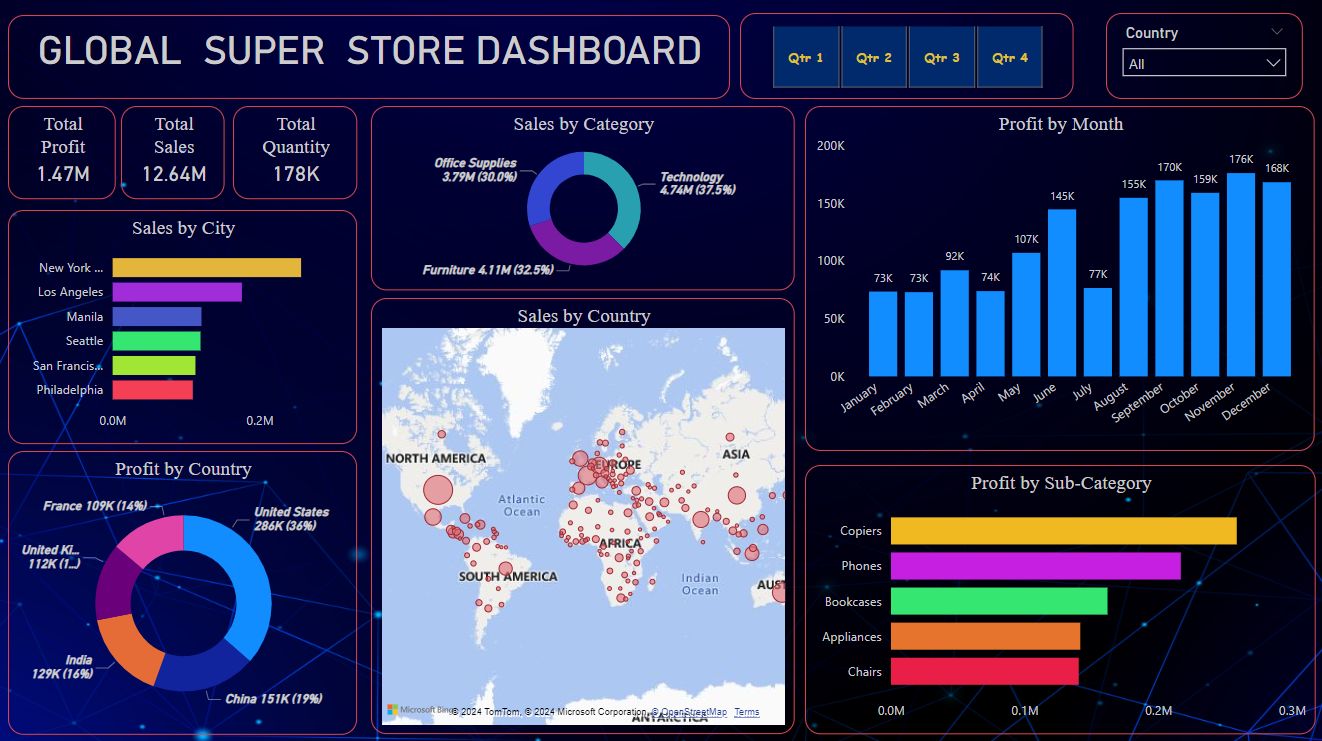

The page's visual inventory and layout, read from the dashboard file:
{"tool":"powerbi","page":{"name":"Page 1","canvas":[1280,720],"ordinal":0},"visuals":[{"type":"slicer","fields":{"Values":["Orders.Order Date.Variation.Date Hierarchy.Quarter"]},"box":[716.3,13.5,322.4,83],"z":0},{"type":"columnChart","title":"Profit by Month","fields":{"Category":["Orders.Order Date.Variation.Date Hierarchy.Month"],"Y":["Sum(Orders.Profit)"]},"box":[779,103.3,492.3,333],"z":1000},{"type":"barChart","title":"Profit by Sub-Category","fields":{"Category":["Orders.Sub-Category"],"Y":["Sum(Orders.Profit)"]},"box":[779,449.8,493.3,259.7],"z":2000},{"type":"donutChart","title":"Sales by Category","fields":{"Category":["Orders.Category"],"Y":["Sum(Orders.Sales)"]},"box":[360,103,409,178],"z":3000},{"type":"slicer","fields":{"Values":["Orders.Country"]},"box":[1069.6,13.5,190.2,83],"z":4000},{"type":"card","title":"Total Profit","fields":{"Values":["Sum(Orders.Profit)"]},"box":[9.7,103.3,104.3,89.8],"z":5000},{"type":"card","title":"Total Sales","fields":{"Values":["Sum(Orders.Sales)"]},"box":[118.7,103.3,100.4,89.8],"z":6000},{"type":"card","title":"Total Quantity","fields":{"Values":["Sum(Orders.Quantity)"]},"box":[226.8,103.3,119.7,89.8],"z":7000},{"type":"clusteredBarChart","title":"Sales by City","fields":{"Category":["Orders.City"],"Y":["Sum(Orders.Sales)"]},"box":[9.7,203.7,336.9,225.9],"z":8000},{"type":"textbox","box":[9.7,15.4,697,81.1],"z":9000},{"type":"map","title":"Sales by Country","fields":{"Size":["Sum(Orders.Sales)"],"Category":["Orders.Country"]},"box":[360.1,288.6,409.3,420.9],"z":10000},{"type":"donutChart","title":"Profit by Country","fields":{"Y":["Sum(Orders.Profit)"],"Category":["Orders.Country"]},"box":[9.7,436.3,336.9,274.1],"z":11000}]}

Visuals, with their boxes in screenshot pixels (x1, y1, x2, y2), scaled from the page's 1280x720 canvas onto the 1322x741 screenshot:
slicer - Orders.Order Date.Variation.Date Hierarchy.Quarter: BBox(740, 14, 1073, 99)
"Profit by Month" columnChart: BBox(805, 106, 1313, 449)
"Profit by Sub-Category" barChart: BBox(805, 463, 1314, 730)
"Sales by Category" donutChart: BBox(372, 106, 794, 289)
slicer - Orders.Country: BBox(1105, 14, 1301, 99)
"Total Profit" card: BBox(10, 106, 118, 199)
"Total Sales" card: BBox(123, 106, 226, 199)
"Total Quantity" card: BBox(234, 106, 358, 199)
"Sales by City" clusteredBarChart: BBox(10, 210, 358, 442)
textbox: BBox(10, 16, 730, 99)
"Sales by Country" map: BBox(372, 297, 795, 730)
"Profit by Country" donutChart: BBox(10, 449, 358, 731)
